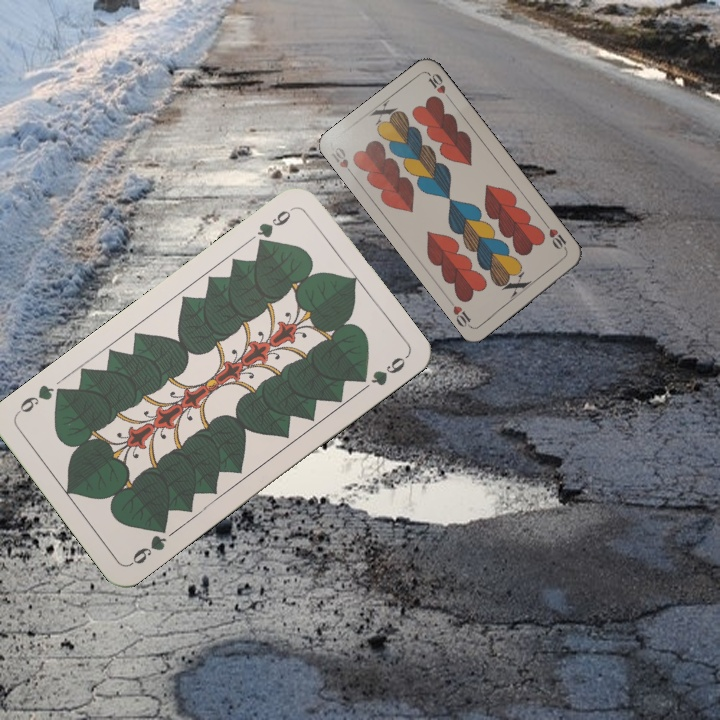G9: (126, 519, 170, 568), (253, 203, 297, 251)
H10: (327, 143, 357, 180), (541, 219, 570, 254)
